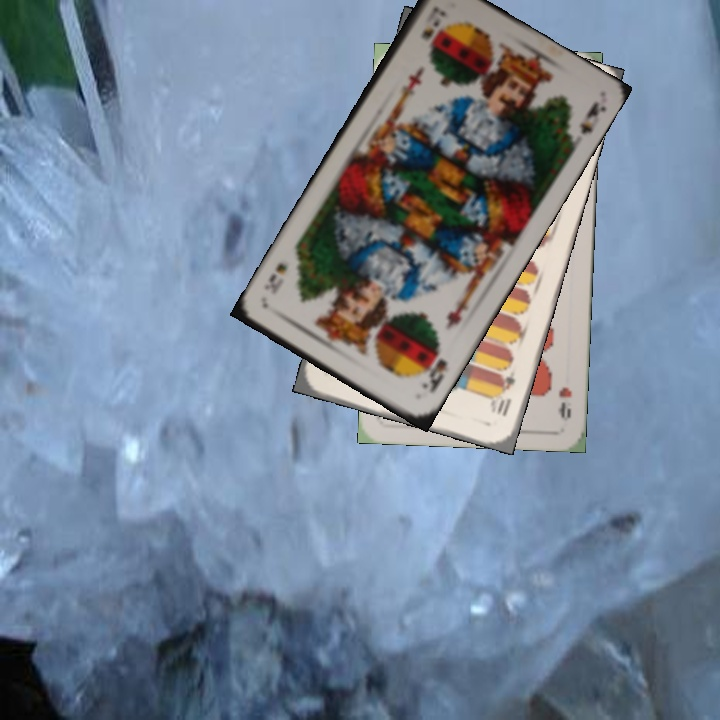E10: (492, 367, 518, 420)
H9: (554, 383, 574, 423)
SK: (417, 341, 452, 396), (416, 2, 449, 43)
